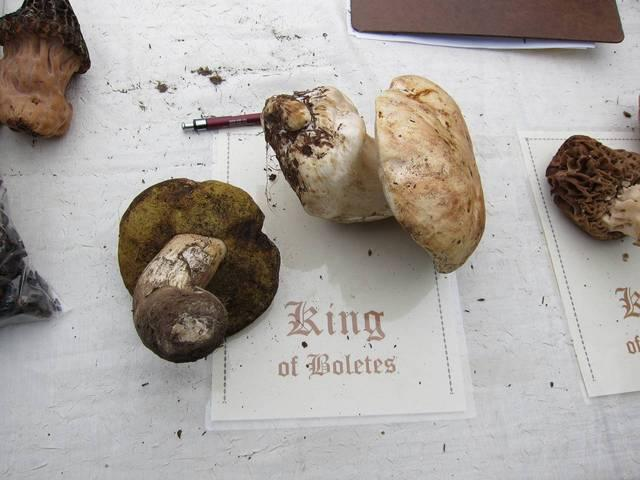edible_mushroom: (260, 69, 486, 272), (116, 176, 280, 362), (0, 0, 90, 139), (544, 133, 639, 242)
